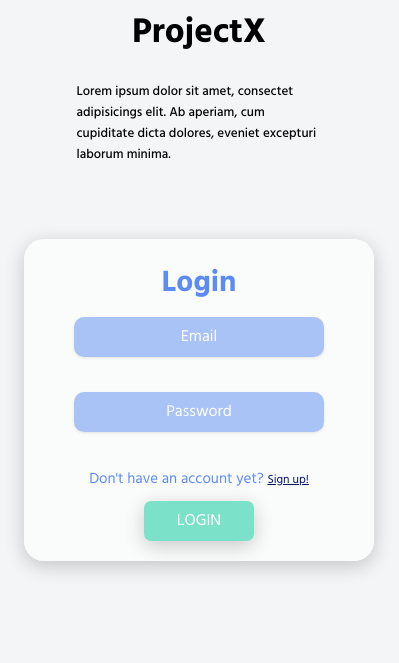
AuthForm testing › title should be "Signup" after click on signup link
Click the element with test id "signup-trigger". click: point(288, 480)
box: top-left (267, 472), bottom-right (309, 488)
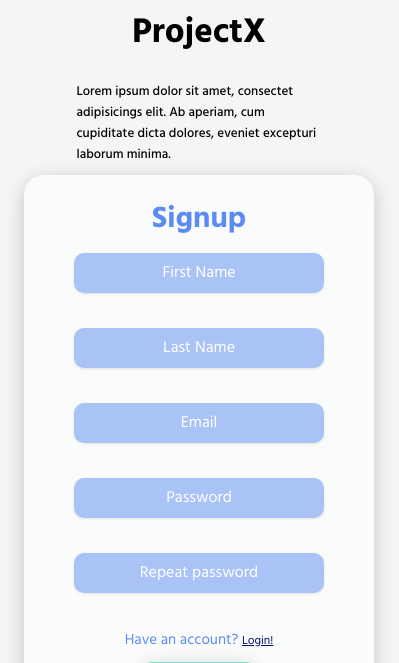
Expected: the heading with test id "test-title" reads "Signup", top-left (152, 195), bottom-right (246, 243)
